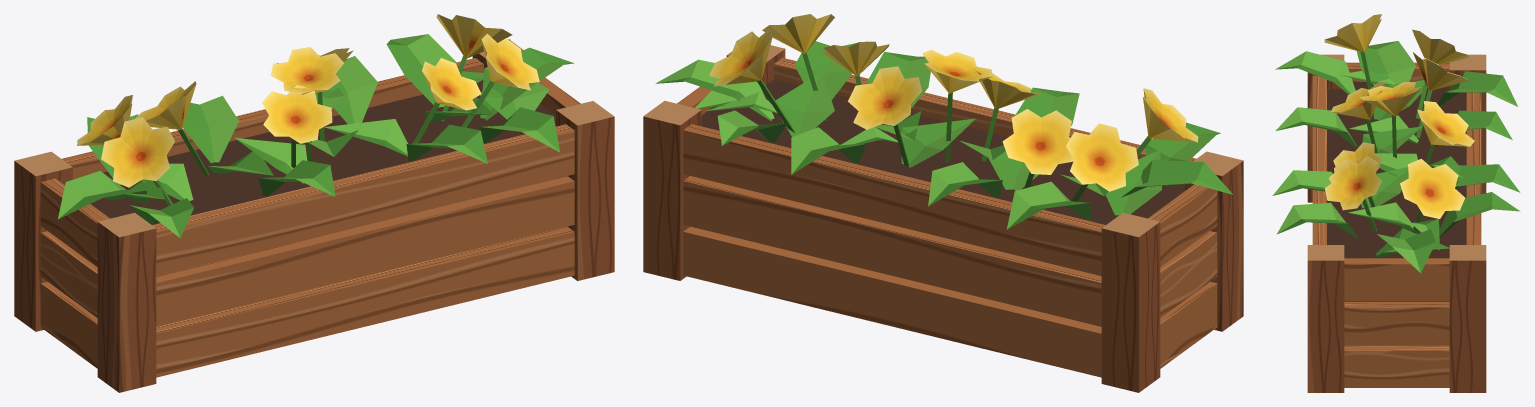
File: FMS_Deco_Planter_Box_Yellow.fbx
3 renders of one model, left to right at view 1: azimuth 30°, elevation 25°; view 2: azimuth 150°, elevation 25°; view 3: azimuth 270°, elevation 25°, orthographic. The views are drawn at different scales.
Parts seen in each view (by area): view 1: item_decor_planter_box_yellow; view 2: item_decor_planter_box_yellow; view 3: item_decor_planter_box_yellow.
Boxes of the visible parts, left/top/right/bottom form: item_decor_planter_box_yellow: left=14, top=14, right=614, bottom=392; item_decor_planter_box_yellow: left=643, top=14, right=1243, bottom=392; item_decor_planter_box_yellow: left=1272, top=14, right=1520, bottom=392.
Bounding box in the file's own units: 0.6635 × 0.2742 × 0.3063.
